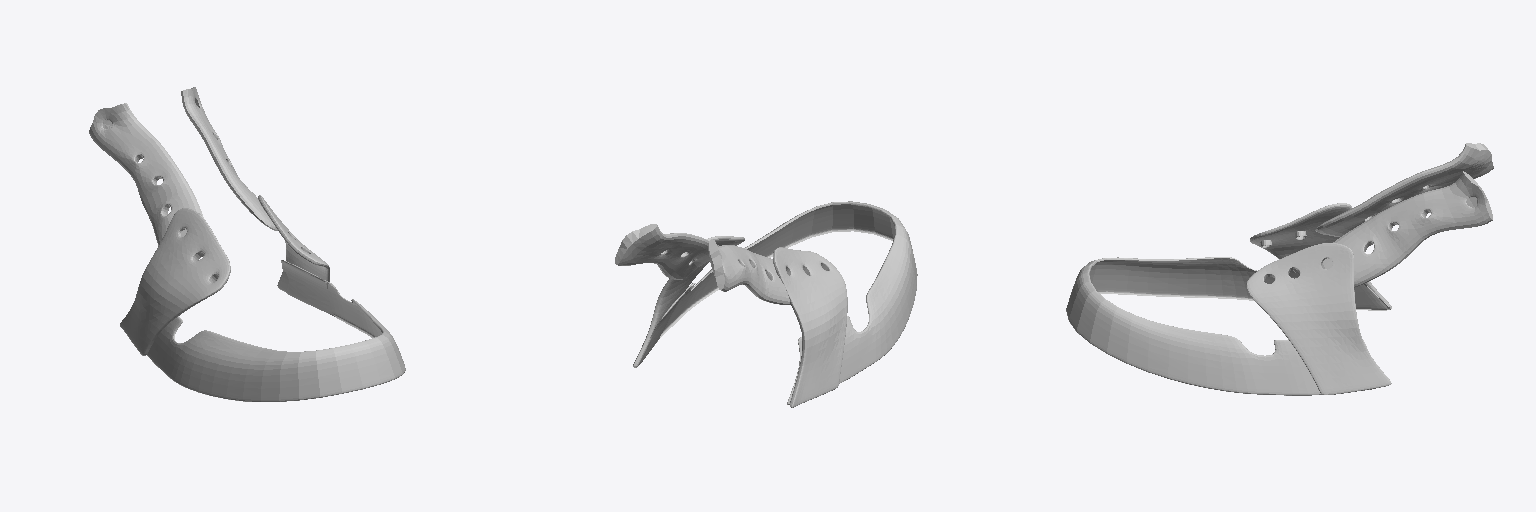
The model's file is upper_mesh.obj.
The picture shows the model from 3 angles: view 1: azimuth 30°, elevation 25°; view 2: azimuth 150°, elevation 25°; view 3: azimuth 270°, elevation 25°; orthographic projection.
Parts seen in each view (by area): view 1: toe_cover_Toe_cover.001, side_cover_Side_cover.001, lateral_cover_Line.001, lateral_cover.001_Line.002; view 2: toe_cover_Toe_cover.001, side_cover_Side_cover.001, lateral_cover.001_Line.002, lateral_cover_Line.001; view 3: toe_cover_Toe_cover.001, side_cover_Side_cover.001, lateral_cover.001_Line.002, lateral_cover_Line.001.
Part boxes in pixels (bbox=[...]): toe_cover_Toe_cover.001: bbox=[147, 260, 405, 401]; side_cover_Side_cover.001: bbox=[120, 195, 329, 355]; lateral_cover_Line.001: bbox=[89, 103, 203, 245]; lateral_cover.001_Line.002: bbox=[181, 87, 277, 230]; toe_cover_Toe_cover.001: bbox=[640, 201, 917, 404]; side_cover_Side_cover.001: bbox=[633, 236, 847, 407]; lateral_cover.001_Line.002: bbox=[615, 224, 718, 279]; lateral_cover_Line.001: bbox=[708, 239, 790, 304]; toe_cover_Toe_cover.001: bbox=[1066, 257, 1389, 395]; side_cover_Side_cover.001: bbox=[1246, 203, 1391, 394]; lateral_cover.001_Line.002: bbox=[1322, 171, 1492, 287]; lateral_cover_Line.001: bbox=[1315, 143, 1493, 243].
Bounding box in the file's own units: 2.54 × 2.34 × 4.81.